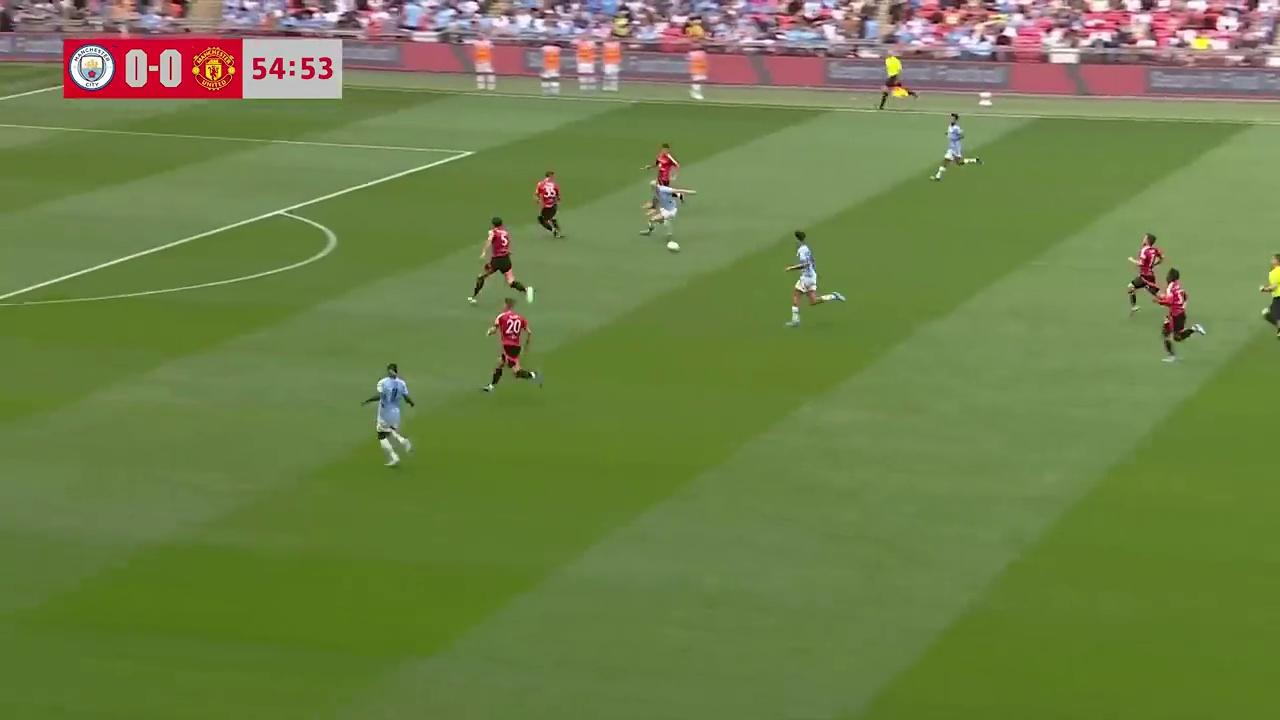ball: (666, 236, 681, 253)
player: (481, 295, 540, 392), (362, 362, 415, 466), (467, 217, 527, 303), (1158, 268, 1204, 364), (783, 230, 821, 327), (930, 112, 982, 182), (640, 180, 688, 251), (1126, 232, 1167, 315), (641, 142, 680, 221), (533, 169, 563, 239)
referee: (1258, 252, 1280, 345), (877, 51, 907, 112)
